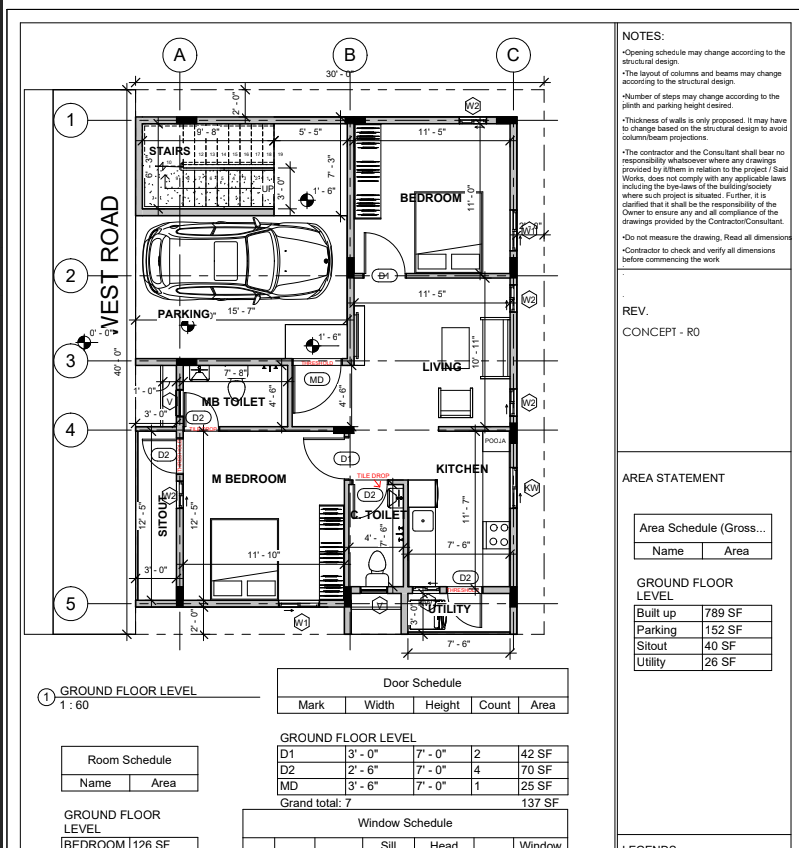door: (291, 362, 345, 417), (362, 229, 410, 277), (302, 434, 349, 482), (444, 590, 486, 631), (141, 436, 181, 476), (353, 481, 390, 521), (183, 391, 221, 429)
